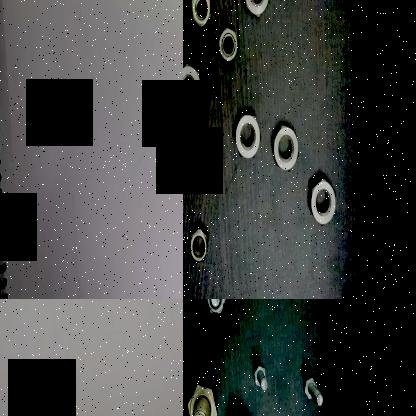Bolts: (184, 378, 220, 416), (294, 374, 327, 414), (249, 361, 269, 395), (201, 299, 227, 319)
NUTS: (264, 120, 300, 176), (306, 172, 338, 226), (232, 107, 260, 166), (217, 20, 239, 70), (184, 0, 215, 35), (186, 220, 209, 264), (183, 58, 202, 110), (238, 0, 271, 24)
